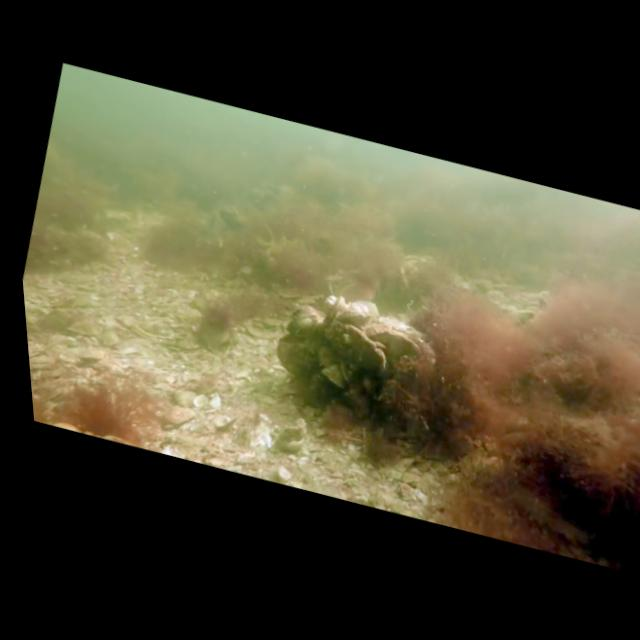Oyster-Closed: (320, 315, 395, 379), (335, 298, 376, 327), (321, 292, 345, 318)
Oyster-Indeterminate: (364, 322, 430, 366), (320, 362, 348, 391)
